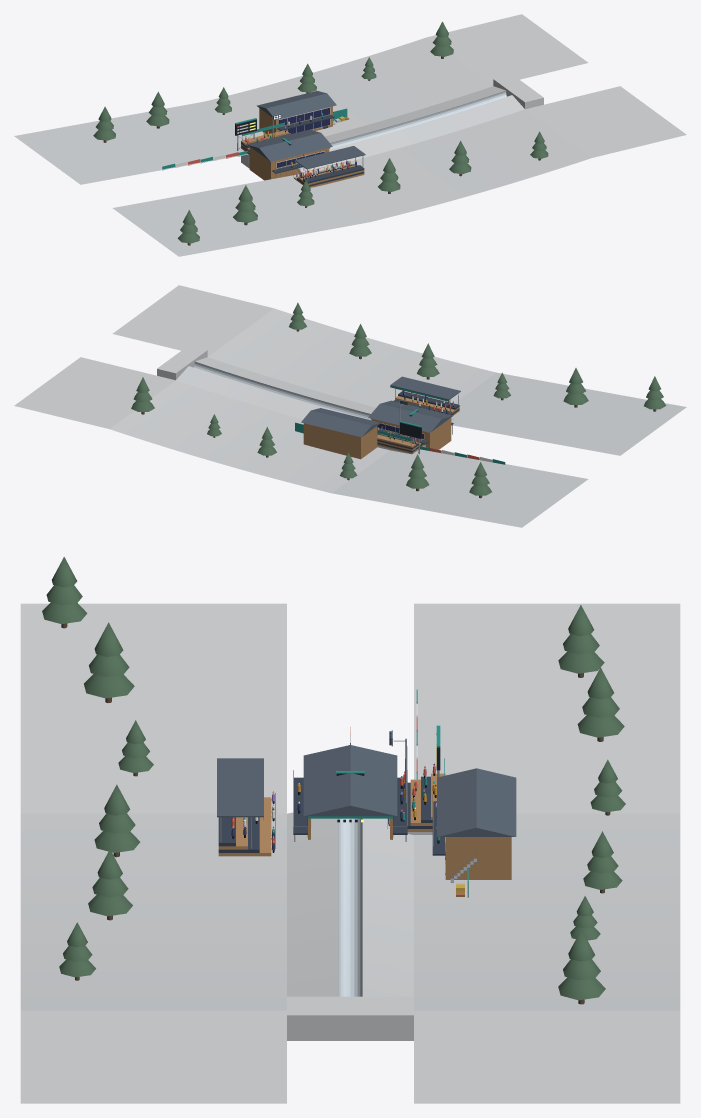
Rendered from bobsled.glb.
3 renders of one model, top to bottom at view 1: azimuth 30°, elevation 25°; view 2: azimuth 150°, elevation 25°; view 3: azimuth 270°, elevation 25°, orthographic. The views are drawn at different scales.
Visible parts, largest first — view 1: FinishArea, StartHouse, Terrace; view 2: FinishArea, StartHouse, Terrace; view 3: FinishArea, StartHouse, Terrace.
Boxes of the visible parts, x1,y1,x2,y2 form: FinishArea: (14, 14, 686, 256); StartHouse: (247, 129, 332, 180); Terrace: (241, 122, 290, 168); FinishArea: (14, 285, 686, 527); StartHouse: (368, 400, 453, 449); Terrace: (377, 428, 425, 454); FinishArea: (20, 557, 680, 1103); StartHouse: (293, 727, 407, 841); Terrace: (387, 758, 445, 834).
Bounding box in the file's own units: 160 × 17.73 × 90.
